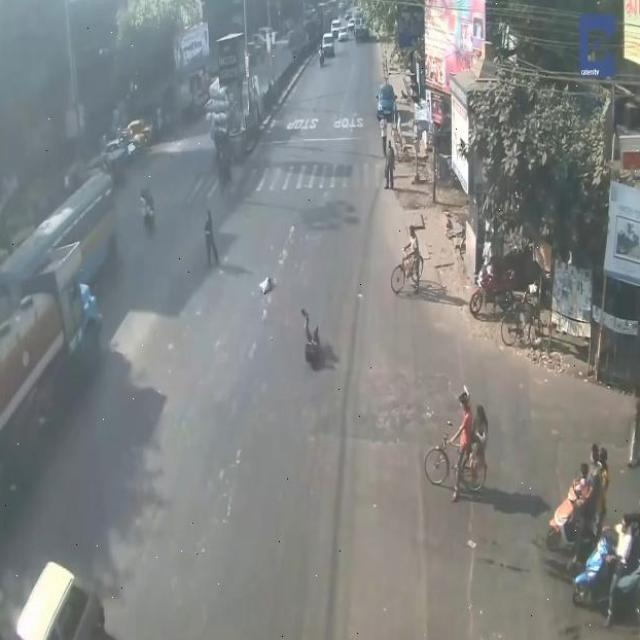accident: (297, 310, 335, 378)
